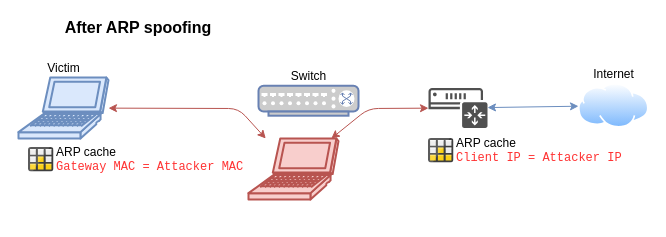
The diagram is 666 pixels wide and 237 high, and some of its shapes have lost their labels. The centre of each missing label's shape, as x and y in pixels:
"Attacker" belongs at pixel 293 168.
"Default Gateway" belongs at pixel 457 108.
